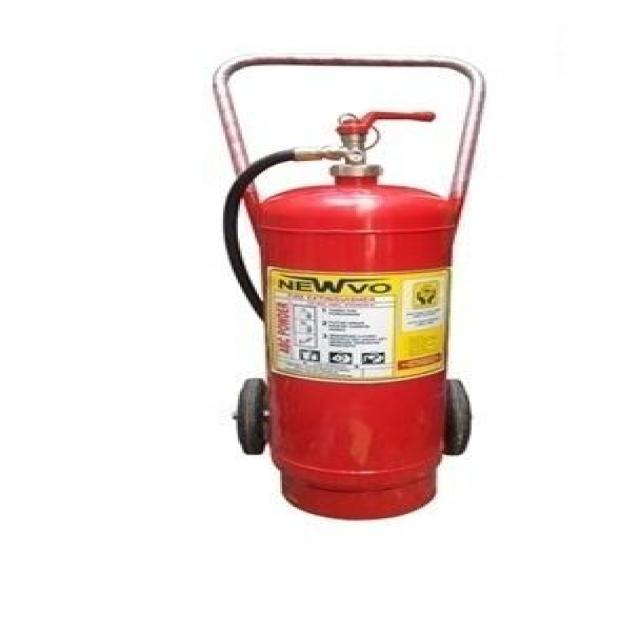fire_extinguisher: (213, 106, 463, 523)
